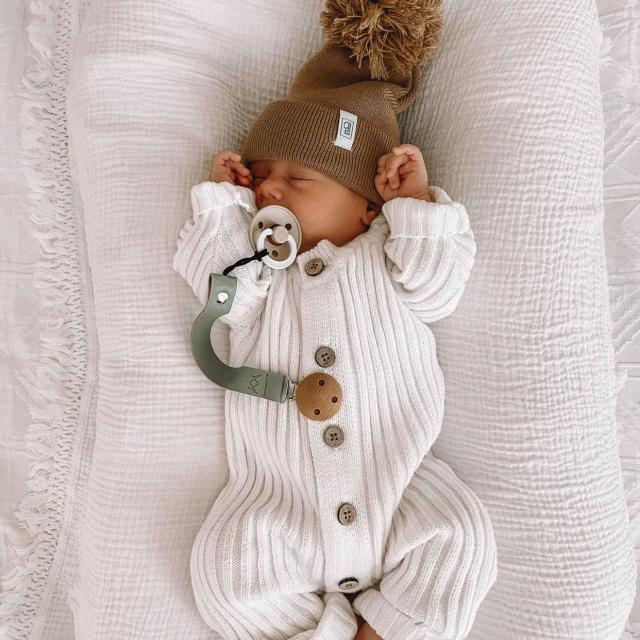child: (174, 24, 492, 640)
